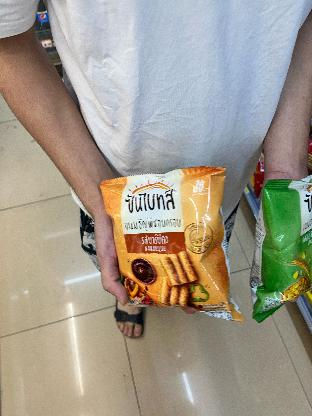Plastic Packaging: (84, 168, 250, 326), (247, 170, 312, 326)
